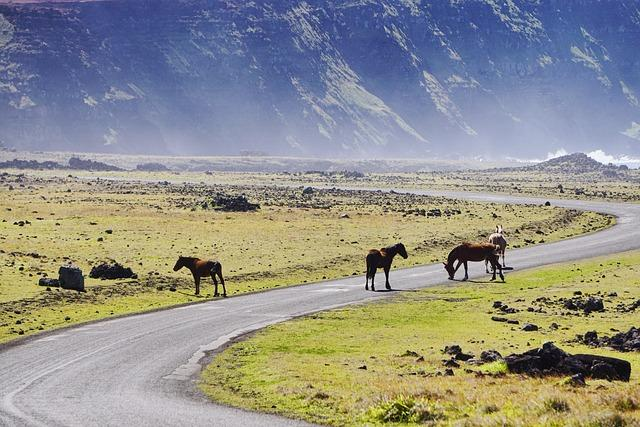Non_Gorille: (40, 16, 587, 375)
